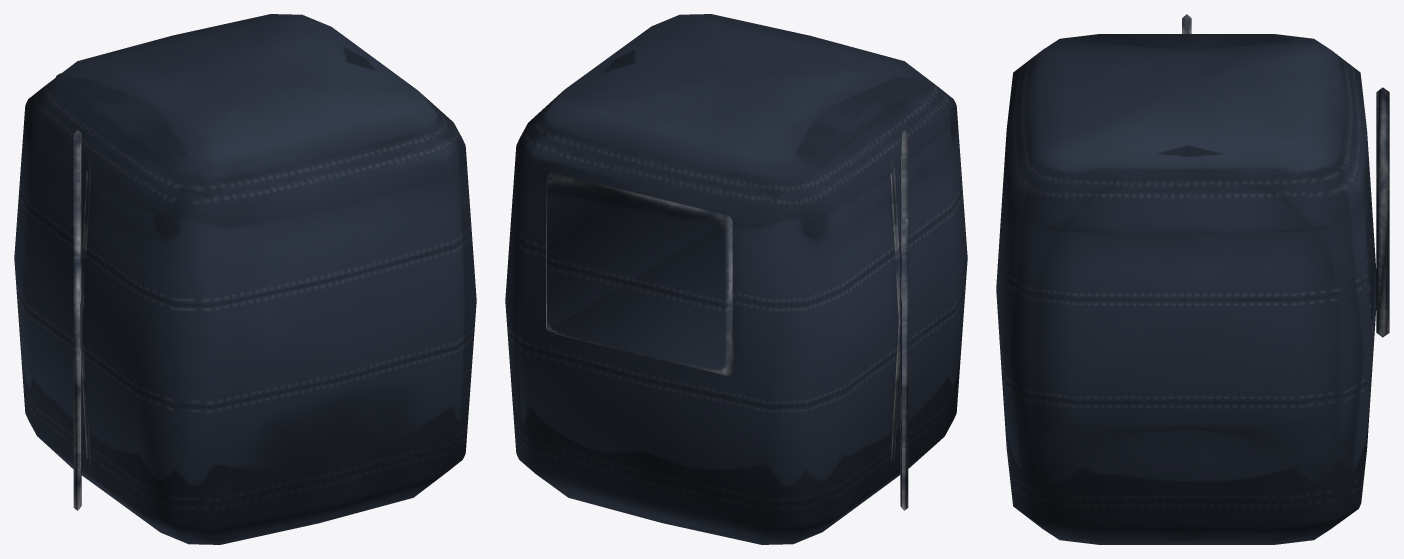
Rendered from Maton_PantalonArribaDer.fbx.
The picture shows the model from 3 angles, left to right: view 1: azimuth 30°, elevation 25°; view 2: azimuth 150°, elevation 25°; view 3: azimuth 270°, elevation 25°; orthographic projection.
Parts seen in each view (by area): view 1: Maton_PantalonArribaDer; view 2: Maton_PantalonArribaDer; view 3: Maton_PantalonArribaDer.
Boxes of the visible parts, x1=… form: Maton_PantalonArribaDer: x1=14, y1=14, x2=476, y2=544; Maton_PantalonArribaDer: x1=505, y1=14, x2=967, y2=544; Maton_PantalonArribaDer: x1=996, y1=14, x2=1389, y2=544.
Size of the model in its own units: 1.26 by 1.43 by 1.26.
